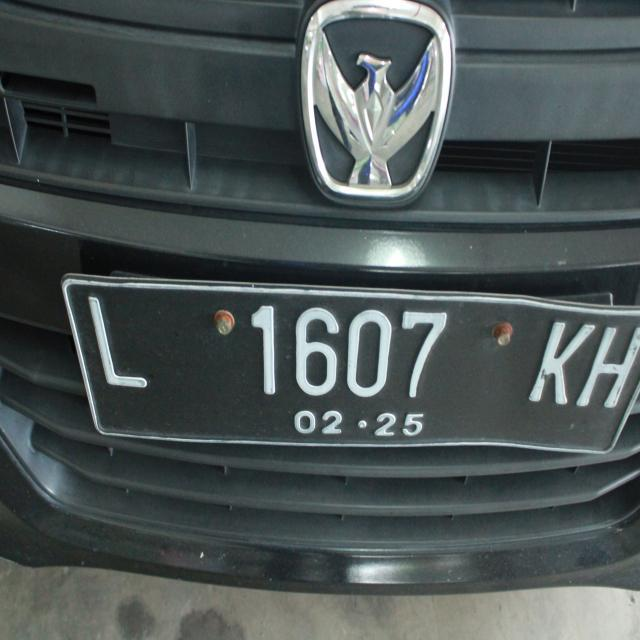0: (341, 306, 394, 406)
1: (242, 292, 292, 416)
6: (289, 284, 336, 404)
7: (398, 290, 448, 416)
H: (577, 300, 640, 436)
K: (524, 301, 596, 426)
L: (69, 278, 161, 408)
